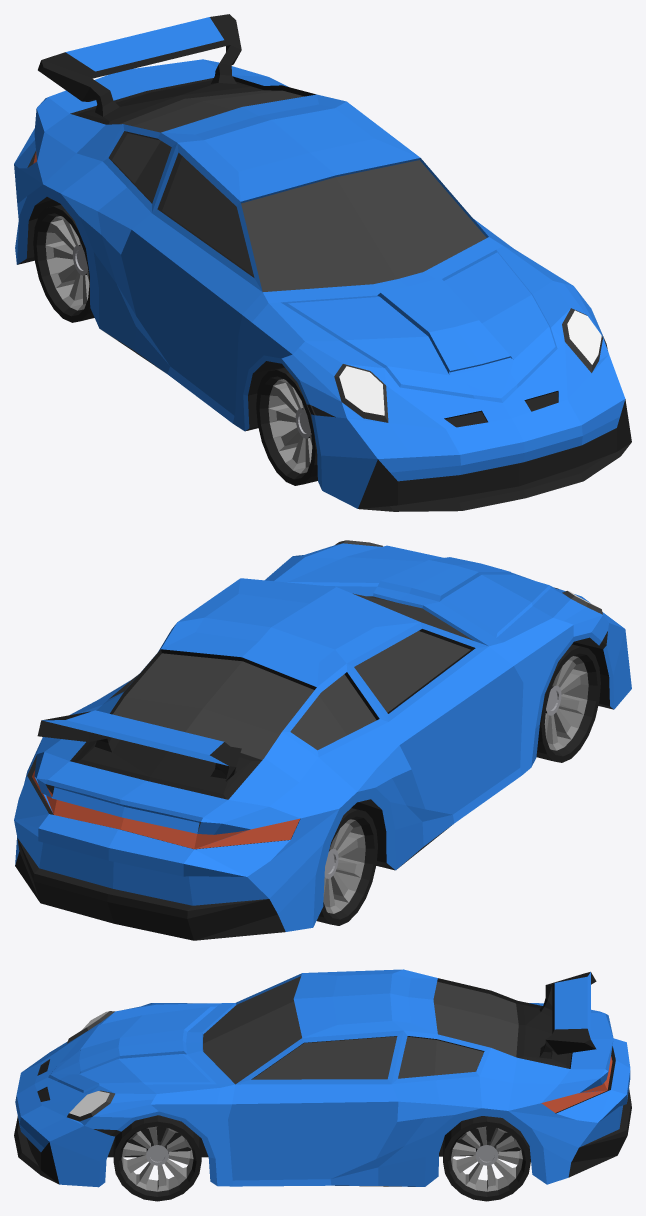
The model's file is porsche911gt3.fbx.
3 views of the same model, one above another, from view 1: azimuth 30°, elevation 25°; view 2: azimuth 150°, elevation 25°; view 3: azimuth 270°, elevation 25° (orthographic). The views are drawn at different scales.
Parts seen in each view (by area): view 1: Body, FrontRight, BackRight; view 2: Body, FrontRight, BackRight; view 3: Body, FrontLeft, BackLeft.
Boxes of the visible parts, x1,y1,x2,y2 form: Body: (14, 14, 631, 511); FrontRight: (256, 367, 317, 485); BackRight: (33, 204, 94, 322); Body: (14, 540, 631, 940); FrontRight: (536, 644, 600, 762); BackRight: (316, 808, 377, 925); Body: (14, 969, 631, 1187); FrontLeft: (113, 1115, 201, 1201); BackLeft: (443, 1116, 530, 1201).
Bounding box in the file's own units: 1.9 × 4.64 × 1.3.
